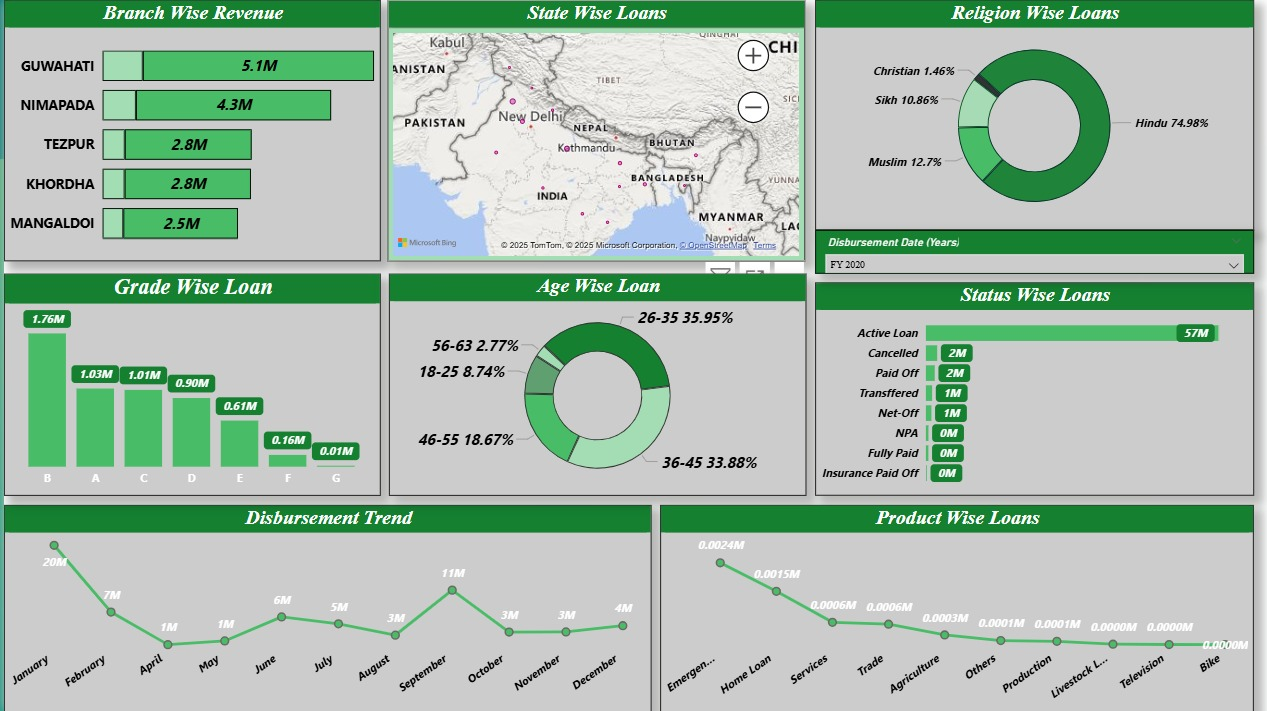

The dashboard page shown, as its layout file describes it:
{"tool":"tableau","page":{"name":"Dashboard1","canvas":[1000,1000],"units":"permille","ordinal":0},"visuals":[{"type":"title","box":[5.3,11.2,895.7,88.6]},{"type":"filter","title":"Total Interest","param":"[federated.0l23b24156va1h11dt08z0hid11w].[yr:Date:ok]","box":[901,11.2,93.7,270.9]},{"type":"worksheet","title":"Total loan amount","mark":"Automatic","box":[5.9,101.1,92,172.3]},{"type":"worksheet","title":"Total Interest","mark":"Automatic","box":[97.9,101.1,90.2,172.3]},{"type":"worksheet","title":"Total loans","mark":"Automatic","box":[188.1,101.1,98.4,172.3]},{"type":"worksheet","title":"Total Collection","mark":"Automatic","box":[286.5,101.1,97.8,172.3]},{"type":"worksheet","title":" Delinquent Clients Count","mark":"Automatic","box":[384.3,101.1,88.5,172.3]},{"type":"worksheet","title":"Loan Maturity","mark":"Automatic","box":[472.8,101.1,80.9,172.3]},{"type":"worksheet","title":"Default Loan Count","mark":"Automatic","box":[553.6,101.1,88.4,172.3]},{"type":"worksheet","title":"Delinquent Loan Rate","mark":"Automatic","box":[642.1,101.1,88.4,172.3]},{"type":"worksheet","title":"Default Loan Rate1","mark":"Automatic","box":[730.5,101.1,88.4,172.3]},{"type":"worksheet","title":"Not Verified Loans","mark":"Text","box":[819,101.1,81.4,172.3]},{"type":"worksheet","title":"State Wise Loans","mark":"Automatic","box":[8.8,280.9,176.3,456.9]},{"type":"worksheet","title":"Branch Wise Revenue","mark":"Automatic","rows":["Branch Name"],"box":[188.6,280.9,208,455.7]},{"type":"worksheet","title":"Grade Wise Loan","mark":"Automatic","rows":["Loan Amount"],"cols":["Grade"],"box":[606.3,282.2,195.7,451.9]},{"type":"worksheet","title":"Religion wise Loan","mark":"Pie","box":[399.5,283.4,203.3,451.9]},{"type":"worksheet","title":"Age wise loan","mark":"Pie","box":[806.1,283.4,186.9,448.2]},{"type":"worksheet","title":"Product Group Wise Loan","mark":"Line","rows":["Account ID"],"cols":["Purpose Category"],"box":[684.2,739.1,308.7,241]},{"type":"worksheet","title":"Disbursment Trend","mark":"Automatic","rows":["Loan Amount"],"cols":["Disbursement Date"],"box":[8.8,740.3,345.1,242.2]},{"type":"worksheet","title":"Status wise loan","mark":"Automatic","rows":["Loan Amount"],"cols":["Loan Status"],"box":[356.8,741.6,325.7,239.7]}]}

Visuals, with their boxes on the dashboard's canvas, which has no fixed pixel size, in thousandths of its width and height (x1, y1, x2, y2). These are canvas units, not pixel positions in the 1267x711 screenshot, which may show the page scaled, cropped or inside an application window:
title: BBox(5, 11, 901, 100)
"Total Interest" filter: BBox(901, 11, 995, 282)
"Total loan amount" worksheet: BBox(6, 101, 98, 273)
"Total Interest" worksheet: BBox(98, 101, 188, 273)
"Total loans" worksheet: BBox(188, 101, 286, 273)
"Total Collection" worksheet: BBox(286, 101, 384, 273)
" Delinquent Clients Count" worksheet: BBox(384, 101, 473, 273)
"Loan Maturity" worksheet: BBox(473, 101, 554, 273)
"Default Loan Count" worksheet: BBox(554, 101, 642, 273)
"Delinquent Loan Rate" worksheet: BBox(642, 101, 730, 273)
"Default Loan Rate1" worksheet: BBox(730, 101, 819, 273)
"Not Verified Loans" worksheet (Text marks): BBox(819, 101, 900, 273)
"State Wise Loans" worksheet: BBox(9, 281, 185, 738)
"Branch Wise Revenue" worksheet: BBox(189, 281, 397, 737)
"Grade Wise Loan" worksheet: BBox(606, 282, 802, 734)
"Religion wise Loan" worksheet (Pie marks): BBox(400, 283, 603, 735)
"Age wise loan" worksheet (Pie marks): BBox(806, 283, 993, 732)
"Product Group Wise Loan" worksheet (Line marks): BBox(684, 739, 993, 980)
"Disbursment Trend" worksheet: BBox(9, 740, 354, 982)
"Status wise loan" worksheet: BBox(357, 742, 682, 981)
